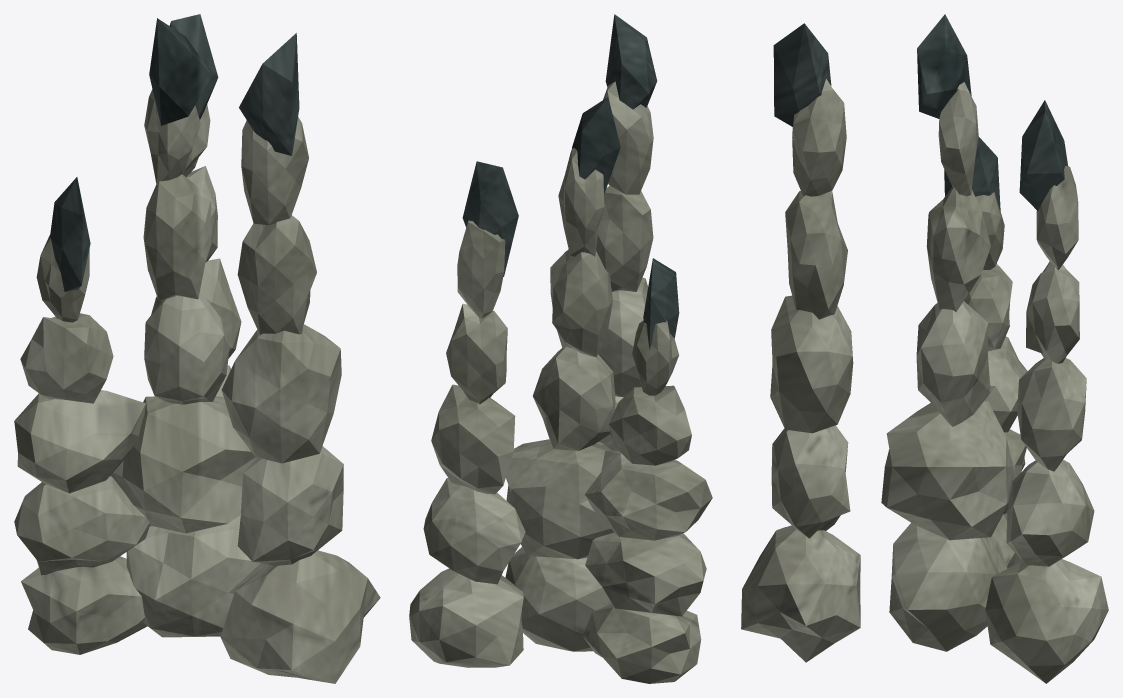
Rendered from 0058_rock_spire_08.glb.
3 views of the same model, side by side, from view 1: azimuth 30°, elevation 25°; view 2: azimuth 150°, elevation 25°; view 3: azimuth 270°, elevation 25° (orthographic). The views are drawn at different scales.
Visible parts, largest first — view 1: stone_light, stone_dark; view 2: stone_light, stone_dark; view 3: stone_light, stone_dark.
Boxes of the visible parts, bbox=[...] form: stone_light: bbox=[14, 89, 380, 683]; stone_dark: bbox=[49, 14, 299, 291]; stone_light: bbox=[409, 81, 712, 683]; stone_dark: bbox=[462, 14, 679, 349]; stone_light: bbox=[741, 79, 1108, 683]; stone_dark: bbox=[773, 14, 1067, 211].
Size of the model in its own units: 1.28 by 2.73 by 1.45.
Materials: 2 (2 with a texture image).
